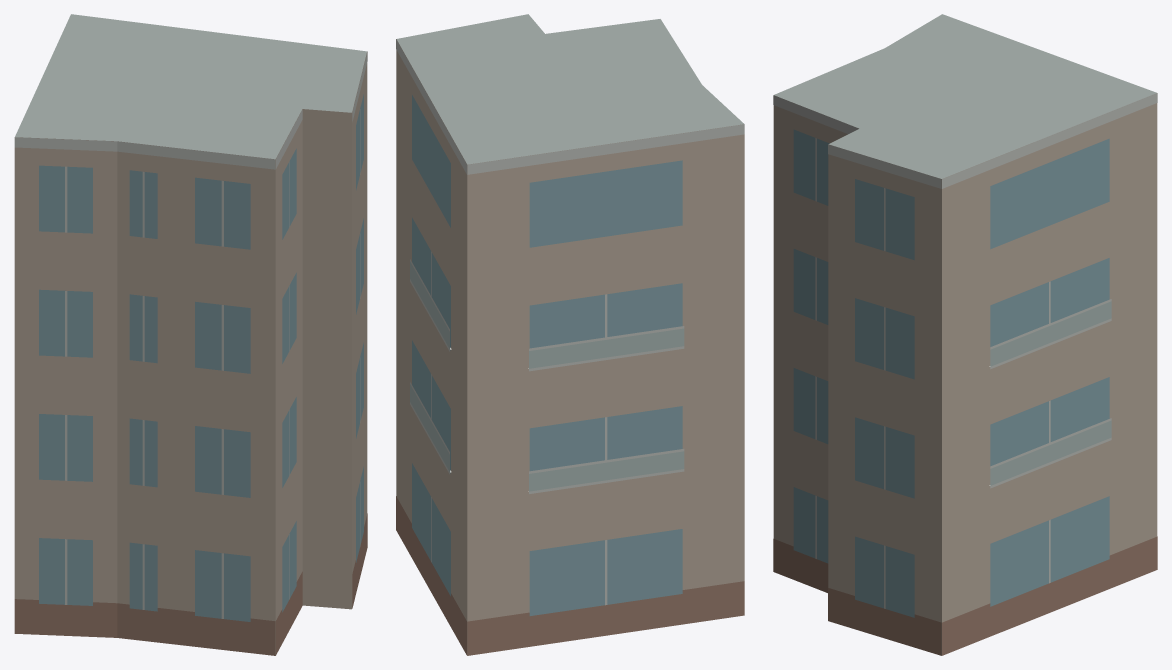
The model's file is survey-upis-32897340.glb.
The picture shows the model from 3 angles, left to right: view 1: azimuth 30°, elevation 25°; view 2: azimuth 150°, elevation 25°; view 3: azimuth 270°, elevation 25°; orthographic projection. The views are drawn at different scales.
Parts seen in each view (by area): view 1: survey-upis-32897340.tmp; view 2: survey-upis-32897340.tmp; view 3: survey-upis-32897340.tmp.
Part boxes in pixels (left/top/right/bottom): survey-upis-32897340.tmp: left=14, top=14, right=367, bottom=655; survey-upis-32897340.tmp: left=396, top=14, right=744, bottom=655; survey-upis-32897340.tmp: left=773, top=14, right=1157, bottom=655.
Size of the model in its own units: 8.66 by 11.65 by 8.51.
